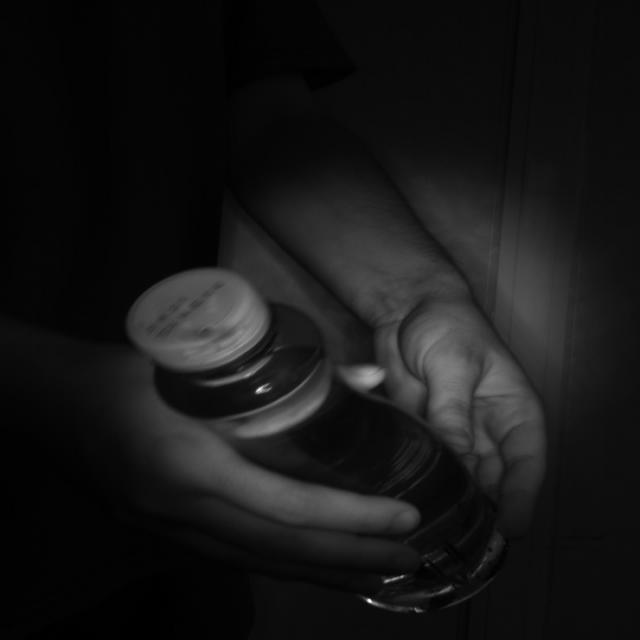Good: (127, 269, 273, 375)
